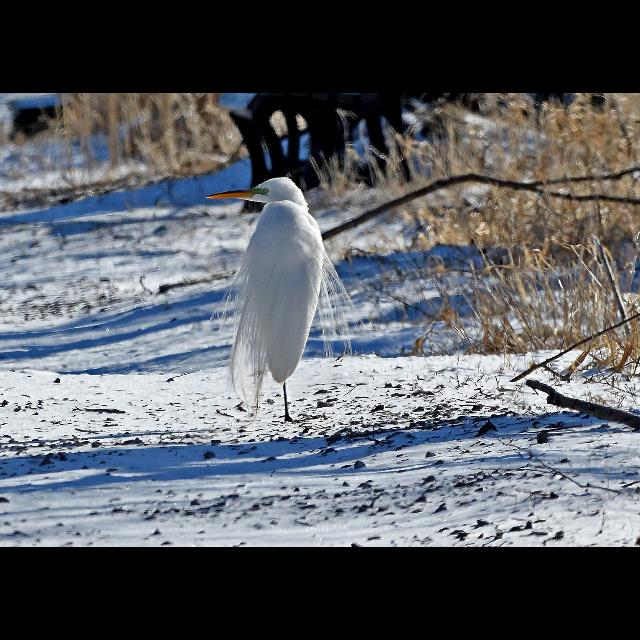egret: (208, 174, 334, 423)
